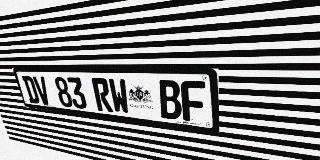3: (66, 77, 88, 109)
8: (53, 77, 74, 108)
B: (157, 80, 182, 120)
D: (21, 76, 40, 104)
F: (180, 81, 206, 123)
R: (91, 78, 113, 112)
V: (32, 76, 52, 105)
W: (108, 78, 131, 114)
